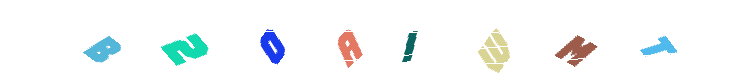2: (232, 0, 312, 80)
A: (325, 0, 405, 80)
B: (145, 0, 225, 80)
I: (335, 0, 415, 80)
M: (451, 0, 531, 80)
O: (269, 0, 349, 80)
T: (536, 0, 616, 80)
W: (369, 0, 449, 80)
